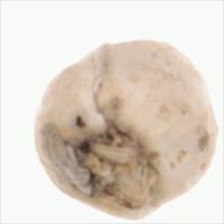L3: (68, 123, 157, 208)
L4: (33, 39, 218, 220)
